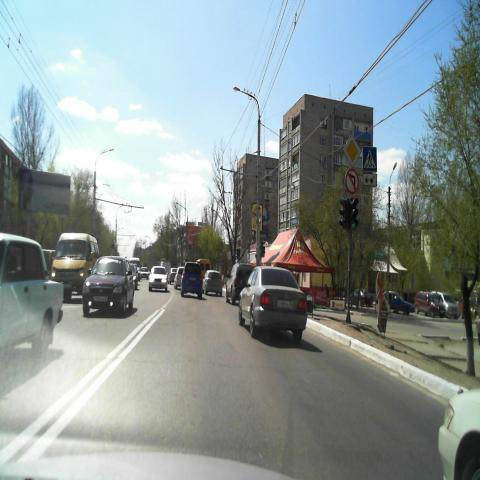3_18_2: (345, 168, 359, 194)
8_15: (362, 173, 377, 186)
